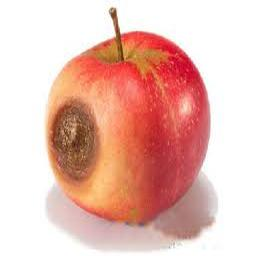Apple Rotten: (43, 6, 213, 227)
